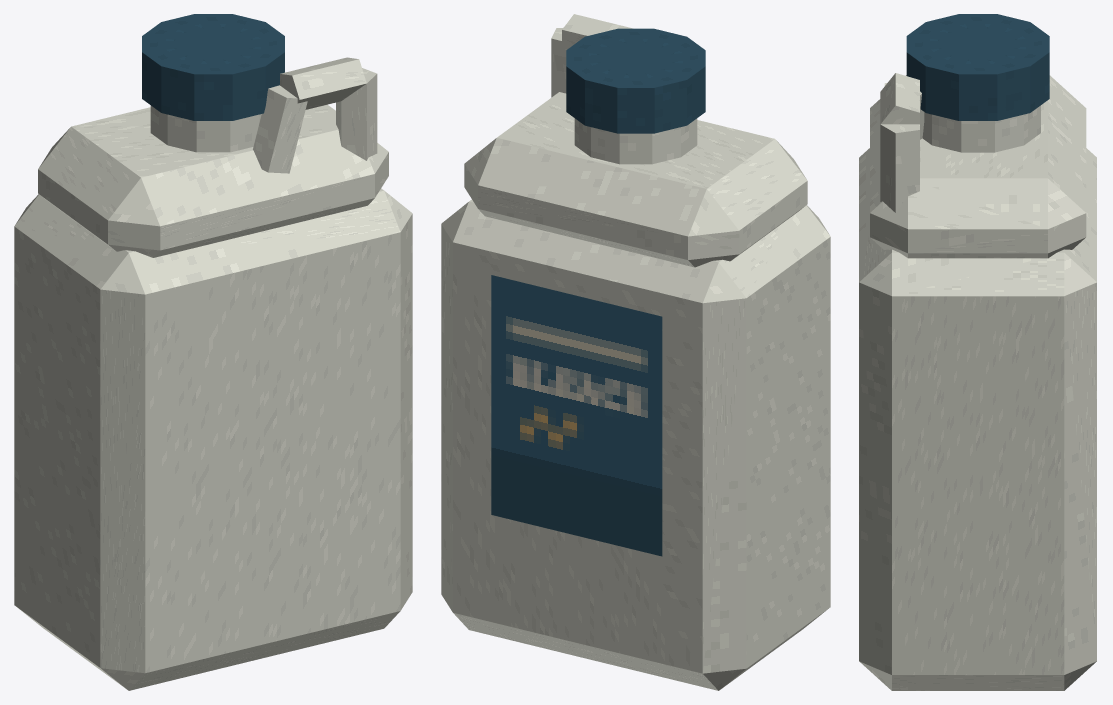
The model's file is bleach.glb.
The picture shows the model from 3 angles, left to right: view 1: azimuth 30°, elevation 25°; view 2: azimuth 150°, elevation 25°; view 3: azimuth 270°, elevation 25°; orthographic projection. The views are drawn at different scales.
Visible parts, largest first — view 1: block_moulded jug, block_sloping jug shoulder, block_ribbed closure, block_neck, block_open carry handle 3, block_open carry handle 2, block_open carry handle 1; view 2: block_moulded jug, block_label, block_sloping jug shoulder, block_ribbed closure, block_neck, block_open carry handle 2, block_open carry handle 1; view 3: block_moulded jug, block_sloping jug shoulder, block_ribbed closure, block_neck, block_open carry handle 1, block_open carry handle 2.
Part boxes in pixels (bbox=[...]): block_moulded jug: bbox=[14, 188, 412, 690]; block_sloping jug shoulder: bbox=[38, 104, 388, 257]; block_ribbed closure: bbox=[142, 14, 284, 120]; block_neck: bbox=[150, 105, 261, 152]; block_open carry handle 3: bbox=[253, 85, 307, 173]; block_open carry handle 2: bbox=[280, 57, 366, 109]; block_open carry handle 1: bbox=[336, 68, 377, 160]; block_moulded jug: bbox=[441, 199, 830, 690]; block_label: bbox=[491, 275, 662, 556]; block_sloping jug shoulder: bbox=[464, 92, 807, 267]; block_ribbed closure: bbox=[566, 28, 705, 133]; block_neck: bbox=[574, 118, 697, 164]; block_open carry handle 2: bbox=[562, 14, 632, 53]; block_open carry handle 1: bbox=[551, 27, 566, 97]; block_moulded jug: bbox=[859, 148, 1096, 690]; block_sloping jug shoulder: bbox=[870, 75, 1086, 258]; block_ribbed closure: bbox=[906, 14, 1049, 120]; block_neck: bbox=[922, 105, 1040, 152]; block_open carry handle 1: bbox=[880, 124, 919, 212]; block_open carry handle 2: bbox=[880, 73, 919, 124].
Bounding box in the file's own units: 0.132 × 0.236 × 0.0878.
1 material, 1 textured.
